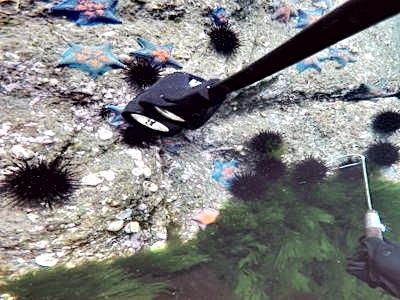urchin: (12, 161, 68, 200), (246, 132, 281, 153), (127, 60, 154, 87), (368, 142, 396, 168), (231, 176, 264, 198), (295, 160, 324, 185), (207, 25, 235, 49), (122, 124, 151, 147), (253, 158, 284, 177), (368, 111, 394, 131)
